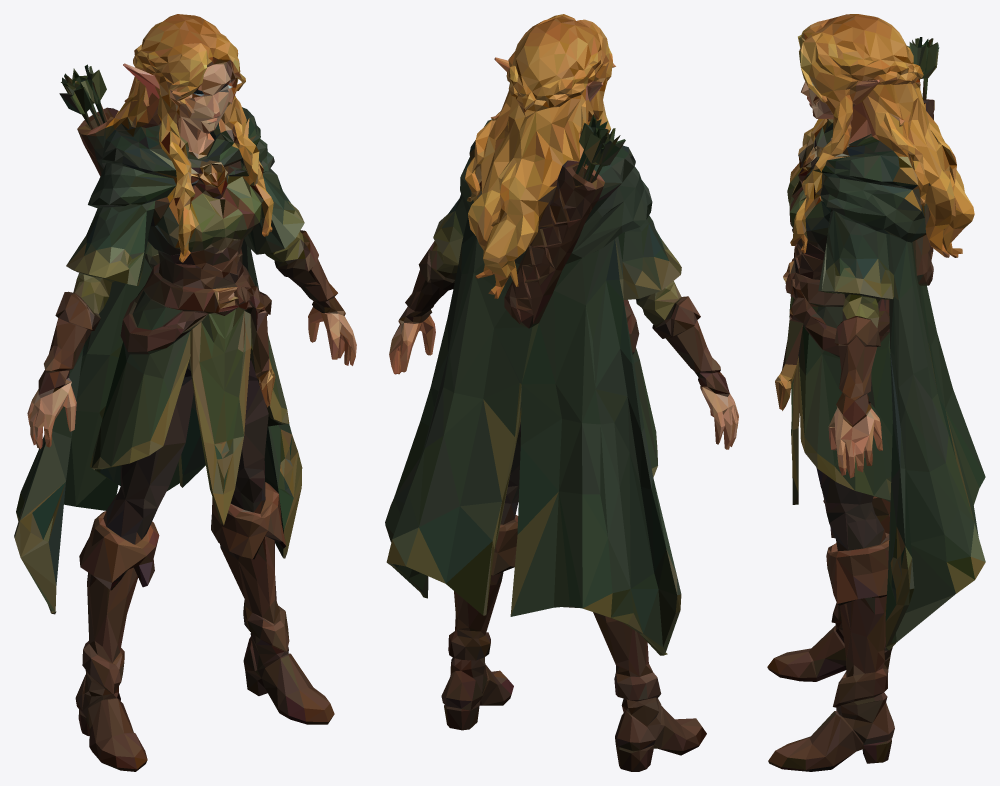
The model's file is lyra.glb.
3 renders of one model, left to right at view 1: azimuth 30°, elevation 25°; view 2: azimuth 150°, elevation 25°; view 3: azimuth 270°, elevation 25°, orthographic. The views are drawn at different scales.
Parts seen in each view (by area): view 1: tripo_node_cc72e1f0-c47a-45e6-95ae-0e45eb139027; view 2: tripo_node_cc72e1f0-c47a-45e6-95ae-0e45eb139027; view 3: tripo_node_cc72e1f0-c47a-45e6-95ae-0e45eb139027.
Boxes of the visible parts, x1,y1,x2,y2 form: tripo_node_cc72e1f0-c47a-45e6-95ae-0e45eb139027: (14, 14, 356, 771); tripo_node_cc72e1f0-c47a-45e6-95ae-0e45eb139027: (385, 14, 738, 771); tripo_node_cc72e1f0-c47a-45e6-95ae-0e45eb139027: (767, 14, 985, 771).
Bounding box in the file's own units: 0.9278 × 1.9 × 0.5382.
